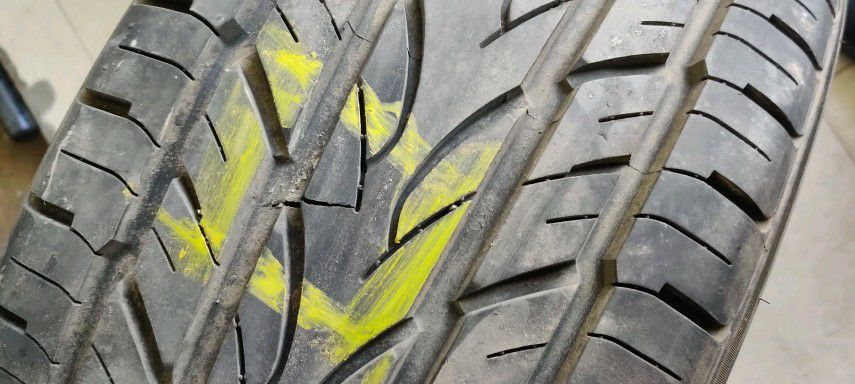tr: (249, 193, 371, 217)
